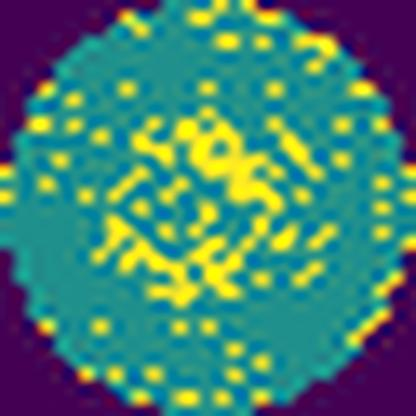Donut: (80, 101, 346, 316)
